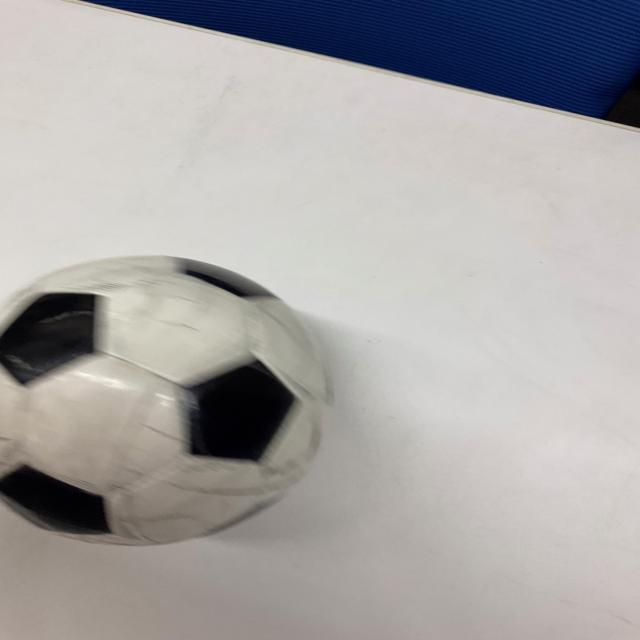ball: (0, 253, 332, 543)
